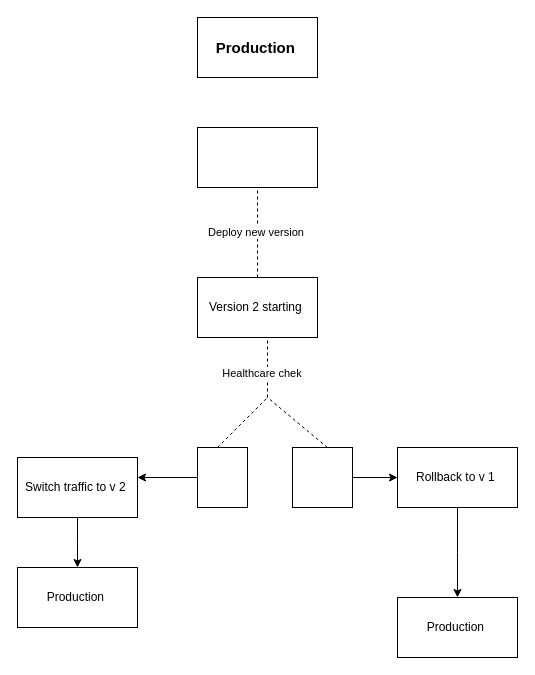
Image size: 535x675. Some labels were removed from this diagram. Here are the shapes that lost their labels. From the top down, the box of each, then its label:
(196, 126, 318, 188): Version 1 Running
(196, 446, 248, 508): pass
(292, 446, 352, 508): FAILED
